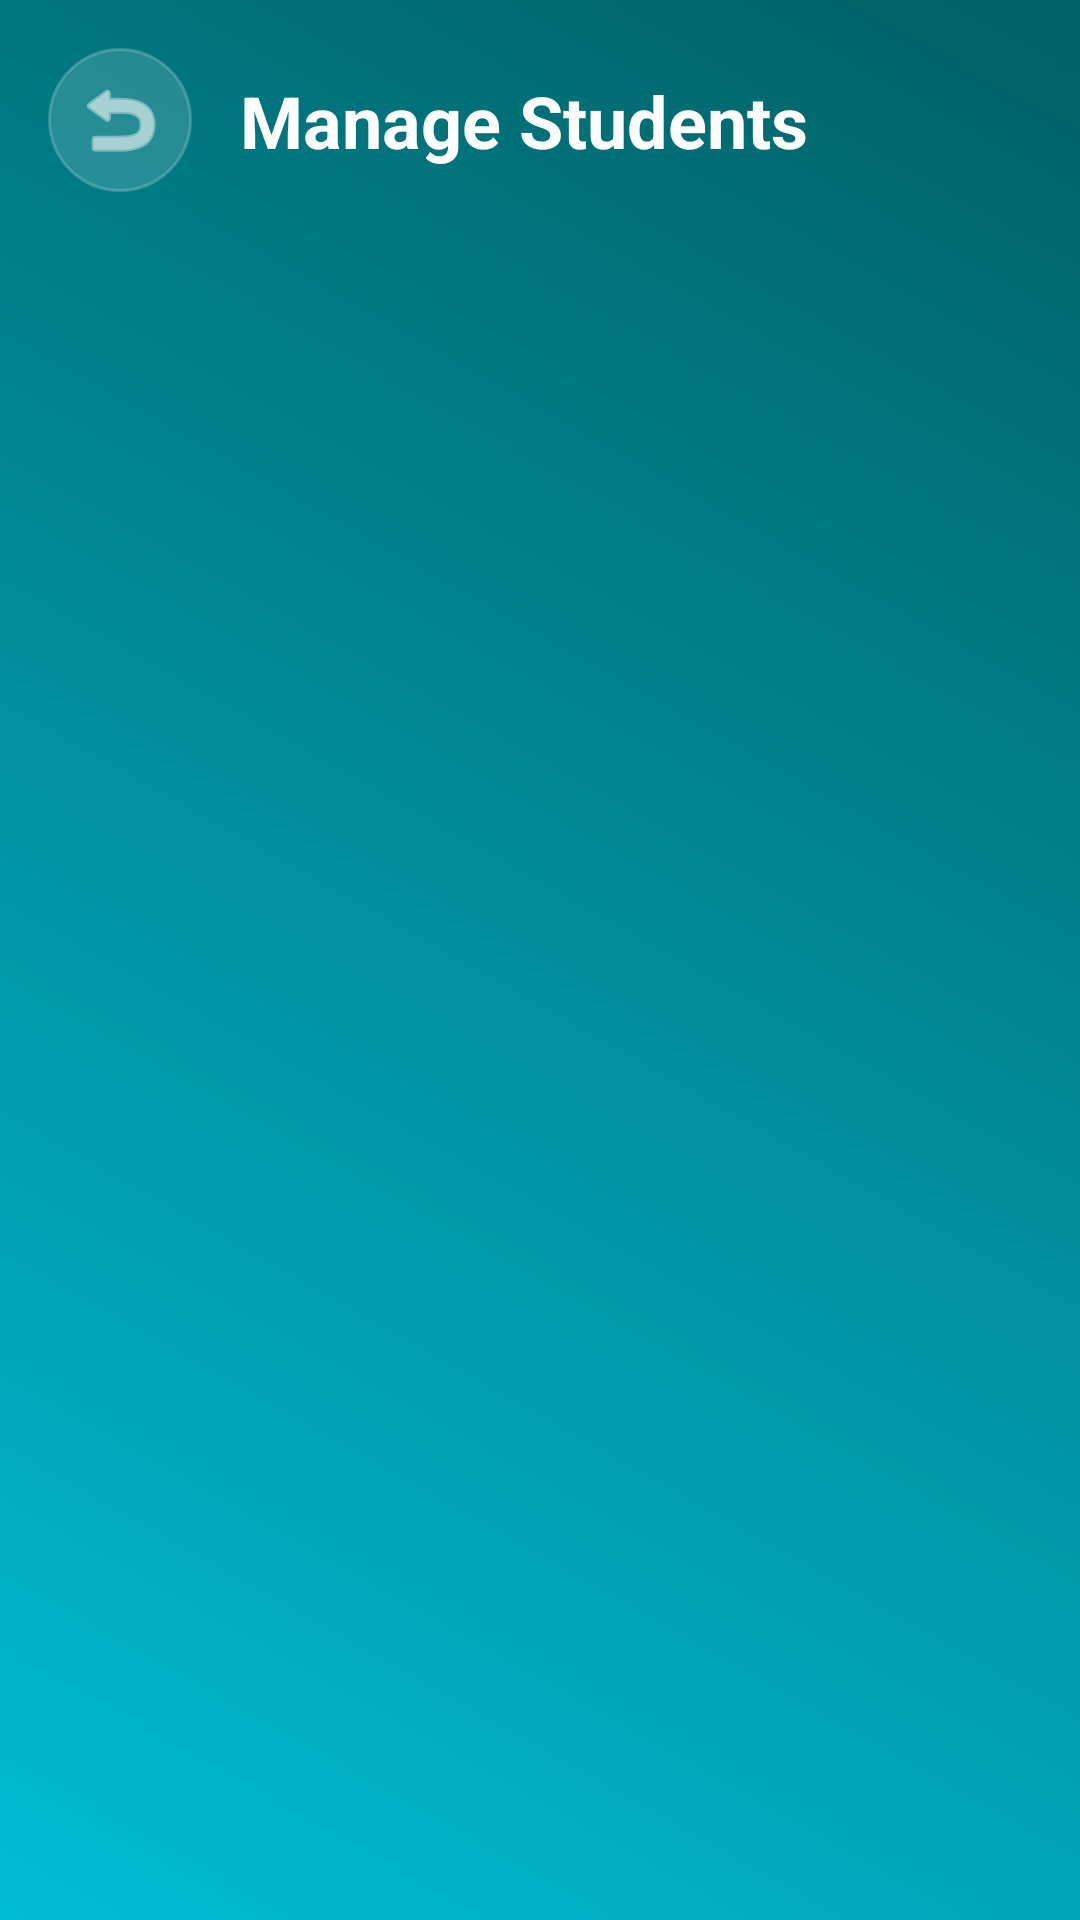

Point at icon controls on the screen. Image size 1080 x 1920, points as point (x, y).
revert: point (120, 120)
